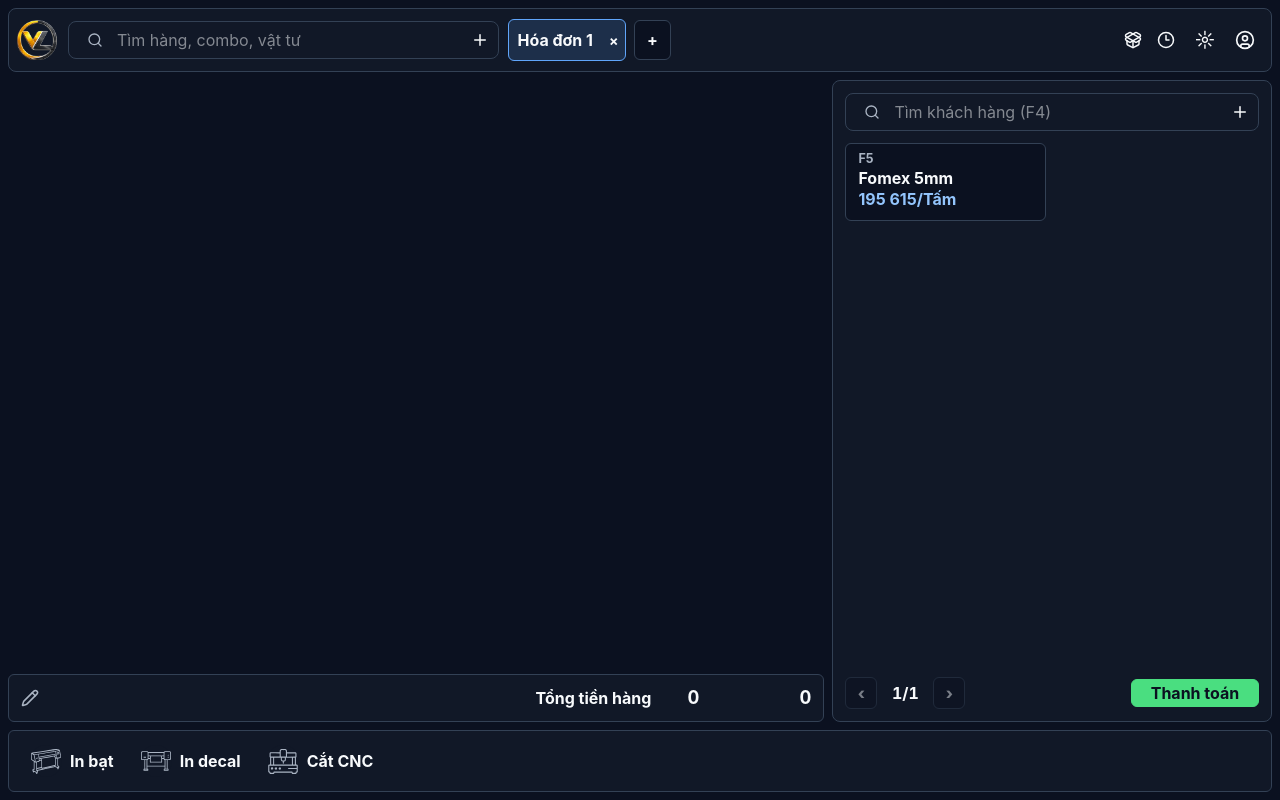
Test: shows POS search results as product cards without image or customer-order quantity
This screenshot has width=1280, height=800.
Expected: the button "F5 Fomex 5mm 195 615/Tấm" is shown, [845, 143, 1046, 221]
Type "f5" into the field named "Tìm hàng (F3)".
click(284, 40); type("f5")  # box [69, 22, 498, 58]
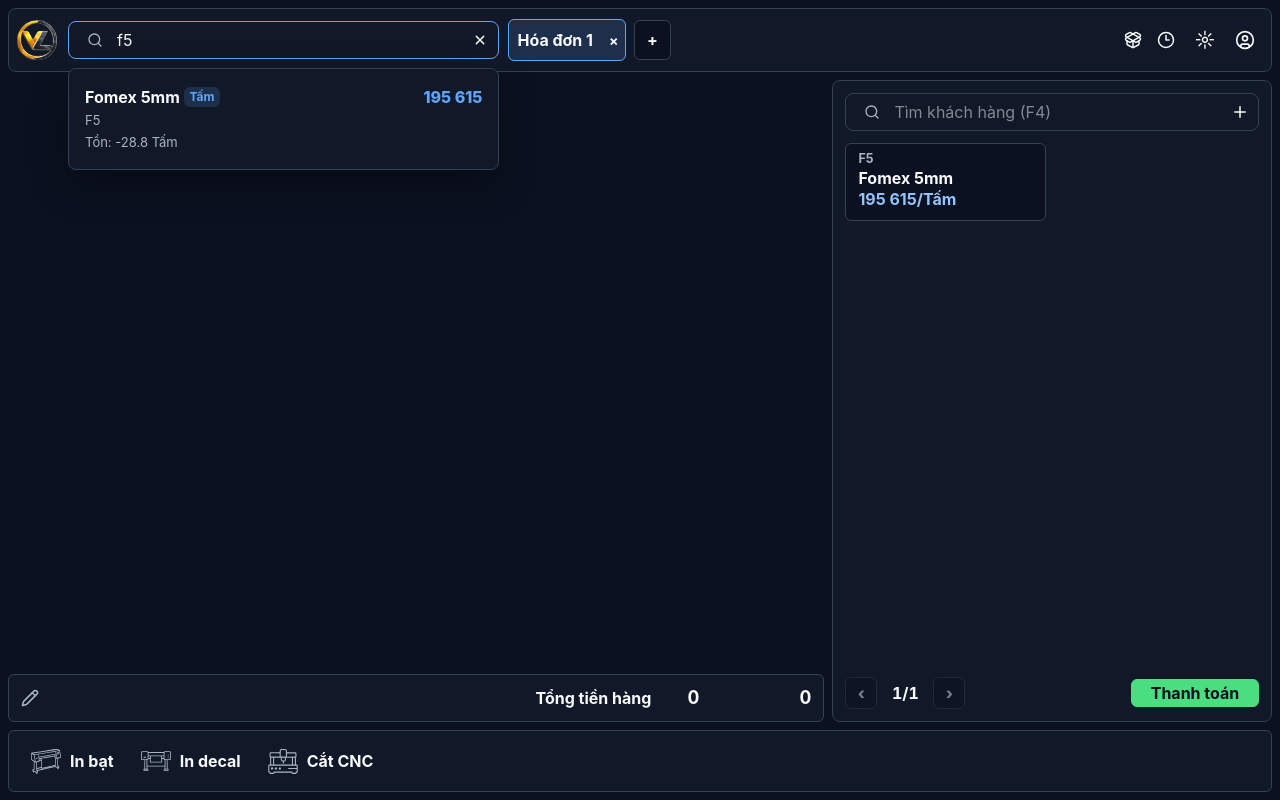
Expected: the 1st text "Fomex 5mm" is shown, [85, 85, 180, 109]
Expected: the text "Tấm" is shown, [184, 87, 220, 107]
Expected: the 1st text "F5" is shown, [85, 112, 100, 128]
